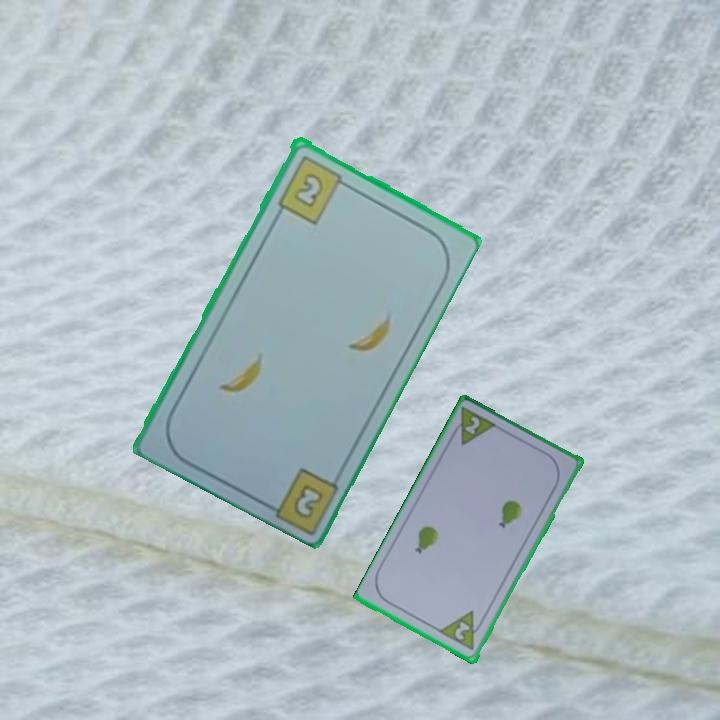2b: (274, 151, 352, 226), (289, 480, 326, 521)
2p: (446, 404, 501, 449), (451, 618, 473, 644)
